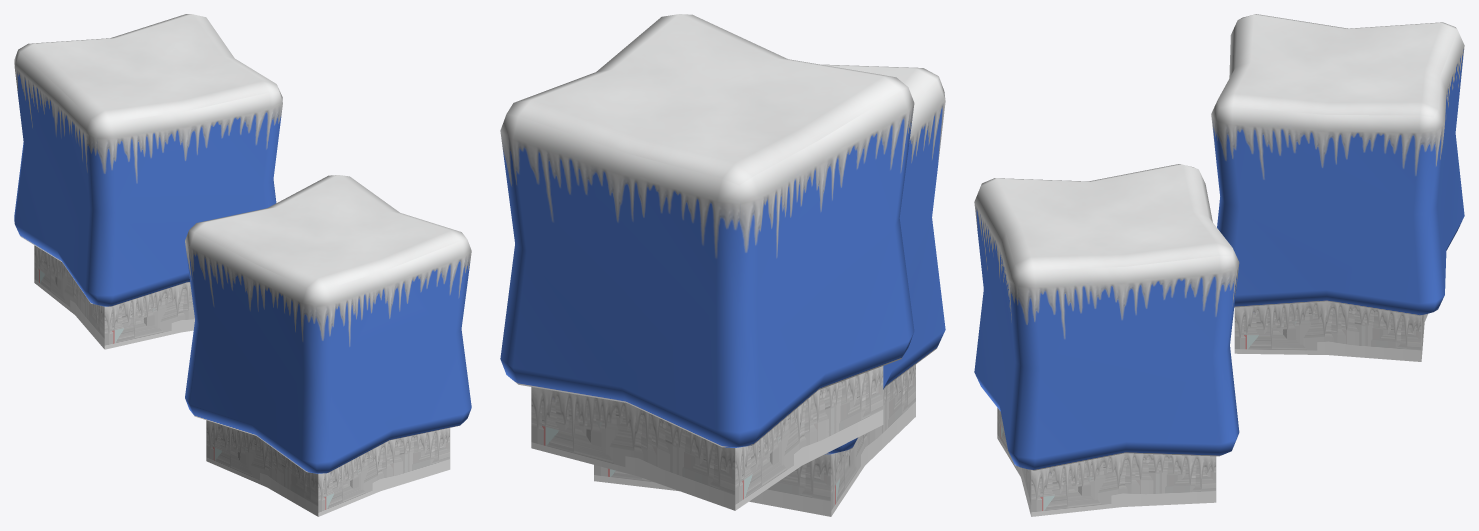
The model's file is Env_PowerUp_Freeze_Fuz.fbx.
3 views of the same model, side by side, from view 1: azimuth 30°, elevation 25°; view 2: azimuth 150°, elevation 25°; view 3: azimuth 270°, elevation 25° (orthographic). The views are drawn at different scales.
Visible parts, largest first — view 1: Freeze; view 2: Freeze; view 3: Freeze.
Boxes of the visible parts, box(x1,y1,x2,y2) form: Freeze: box(14, 14, 471, 516); Freeze: box(500, 14, 945, 516); Freeze: box(974, 14, 1464, 516).
Size of the model in its own units: 1.5 by 1.75 by 2.09.
Materials: 1 (1 with a texture image).
